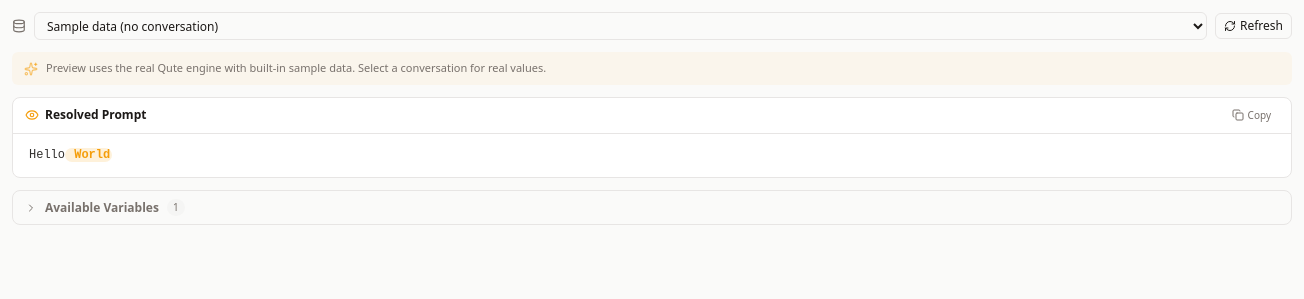
Scenario: PromptPreview with resolved data › toggles variable reference panel open
Step 1. Click the button "Available Variables 1" → (102, 207), box x1=13 y1=191 x2=1291 y2=224
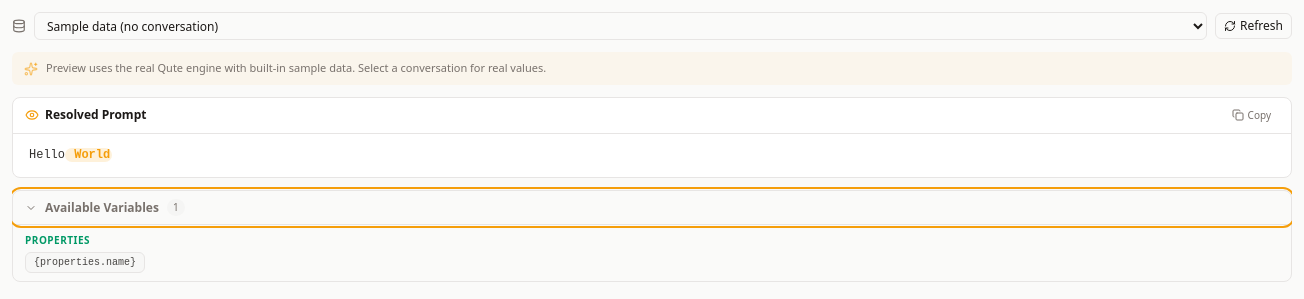
Now the button "{properties.name}" is shown, box x1=25 y1=252 x2=145 y2=273
